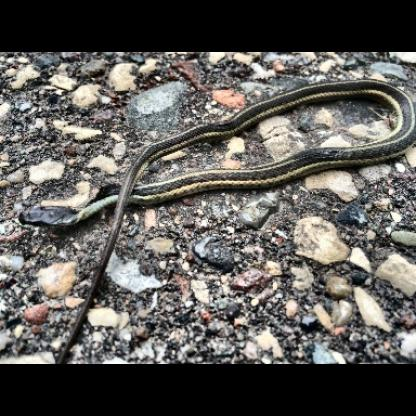Snake: (6, 69, 414, 237)
